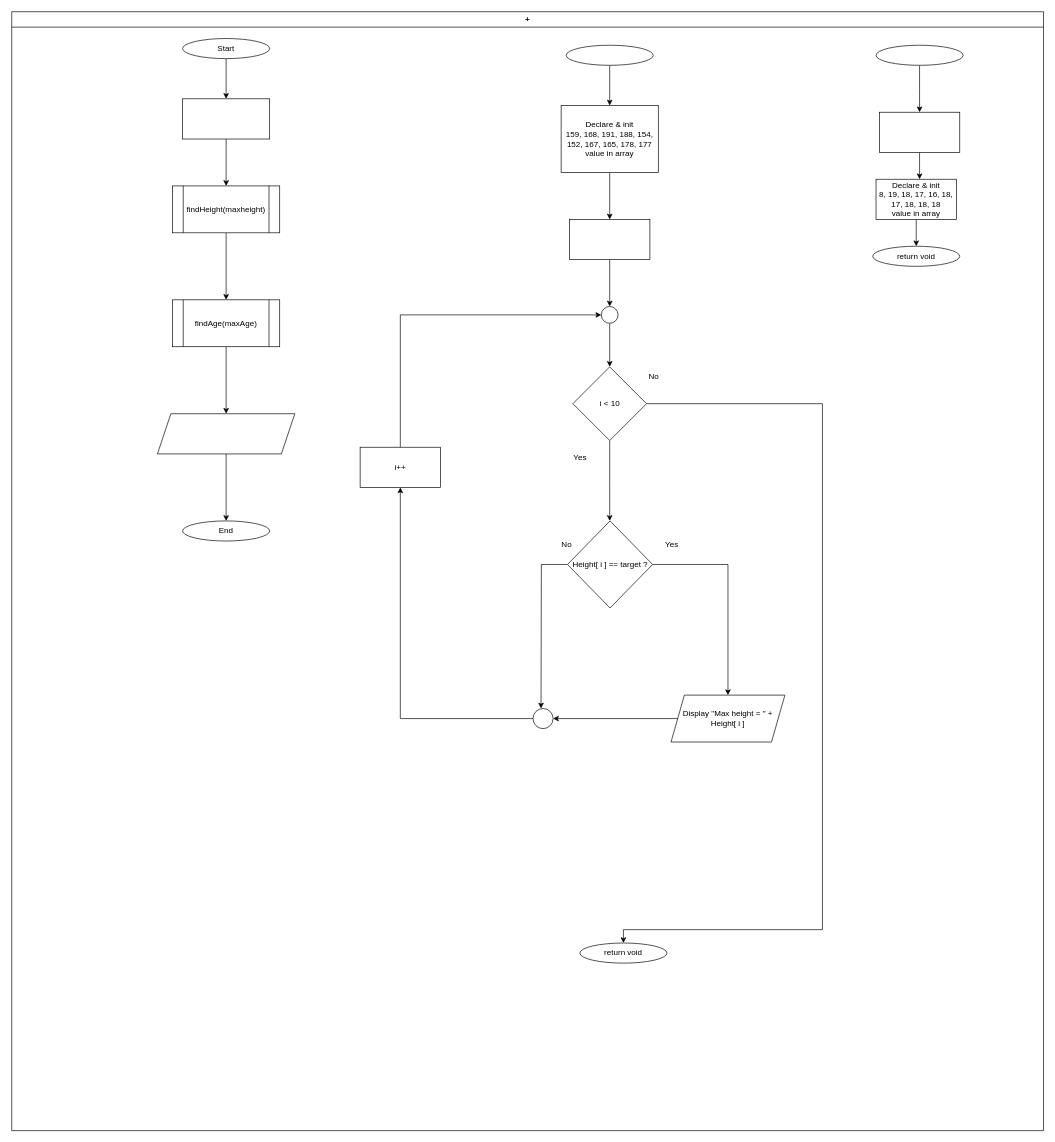
This 1055x1142 diagram has some shape labels left out. Each missing label, with the box of its shape:
Declare & Init maxheight = 191 is int maxAge is int: (182, 98, 270, 139)
Display "Max age = " + maxAge: (157, 413, 295, 454)
findAge(*target): (875, 45, 963, 65)
findHeight(target): (565, 45, 653, 65)
i = 0: (569, 219, 650, 260)
Init *target = 19: (879, 112, 960, 152)
